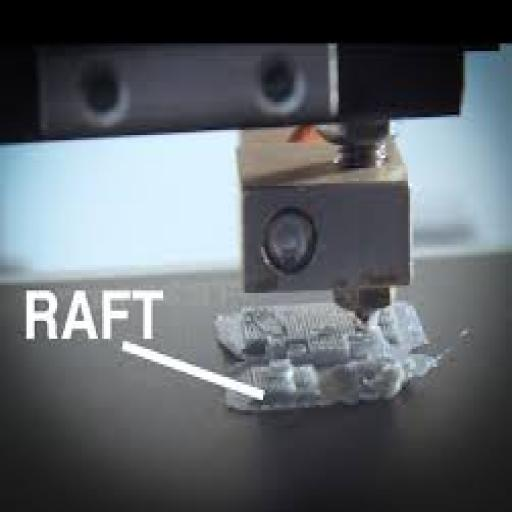spaghetti: (368, 365, 448, 408)
